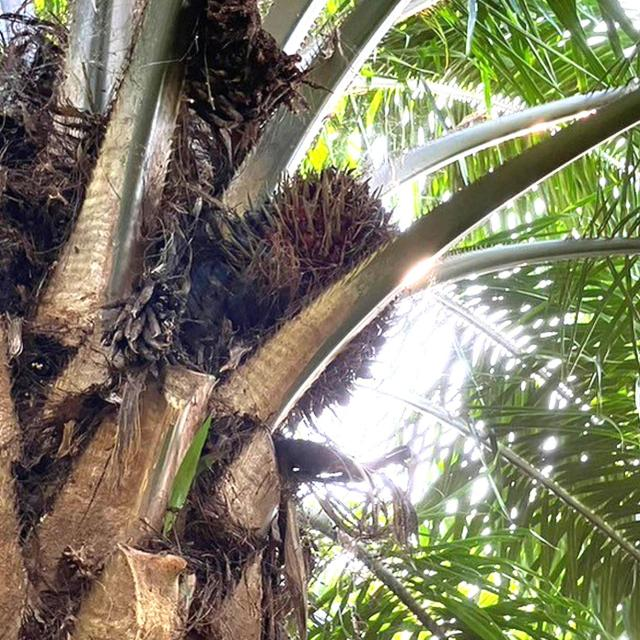ripe: (220, 161, 393, 416)
